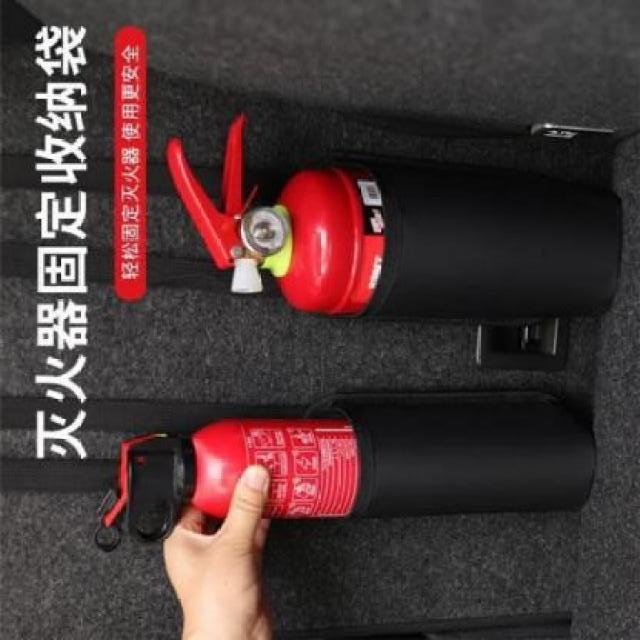fire extinguisher: (167, 114, 382, 315)
